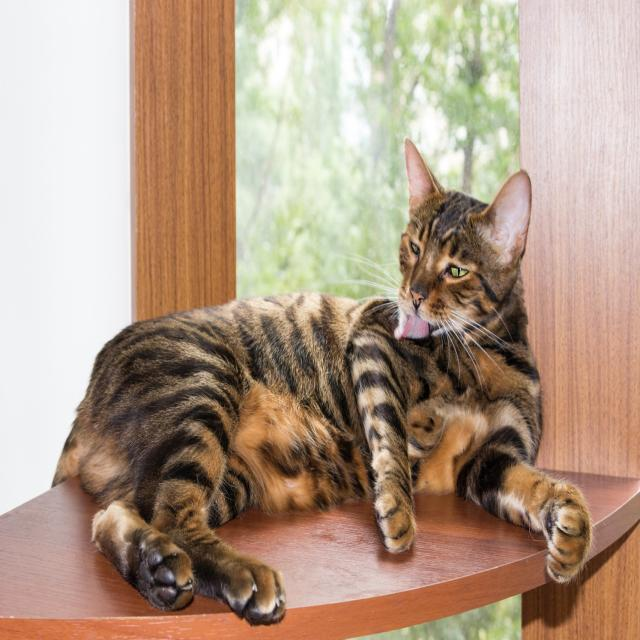Toyger: (45, 132, 592, 630)
